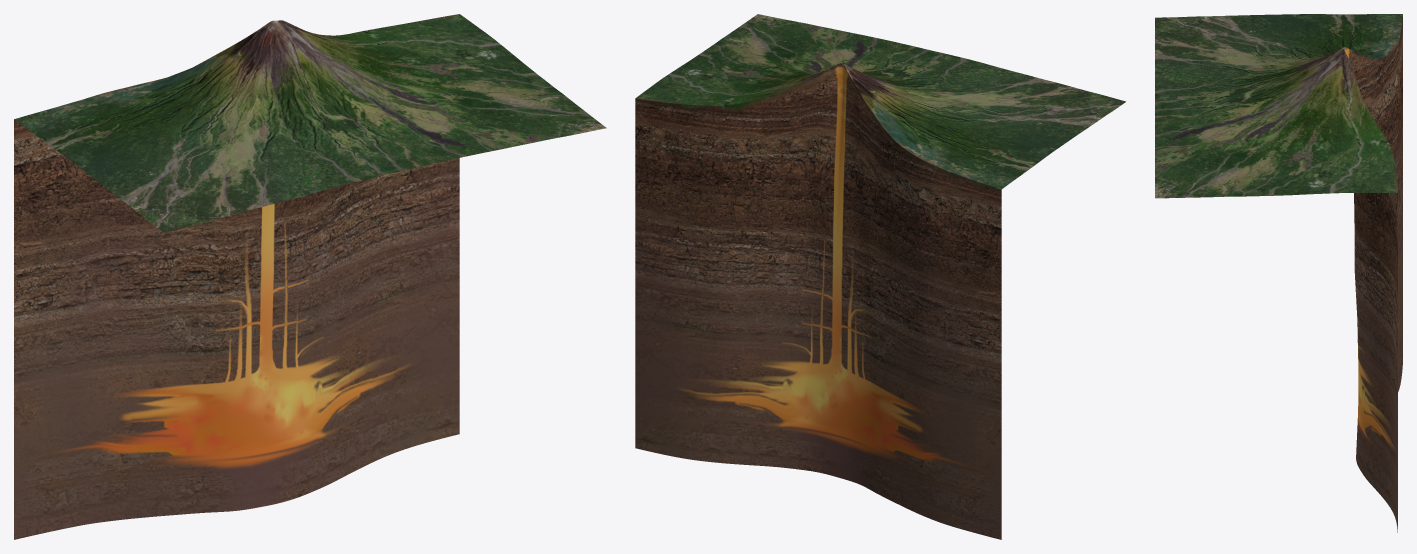
File: mayon_slice_FULL3.glb
3 renders of one model, left to right at view 1: azimuth 30°, elevation 25°; view 2: azimuth 150°, elevation 25°; view 3: azimuth 270°, elevation 25°, orthographic. The views are drawn at different scales.
Parts seen in each view (by area): view 1: Mayon_slice_FIN2; view 2: Mayon_slice_FIN2; view 3: Mayon_slice_FIN2.
Boxes of the visible parts, bbox=[...] form: Mayon_slice_FIN2: bbox=[14, 14, 606, 539]; Mayon_slice_FIN2: bbox=[635, 14, 1125, 539]; Mayon_slice_FIN2: bbox=[1155, 14, 1402, 532].
Size of the model in its own units: 168 by 178 by 98.49.
Materials: 1 (1 with a texture image).
